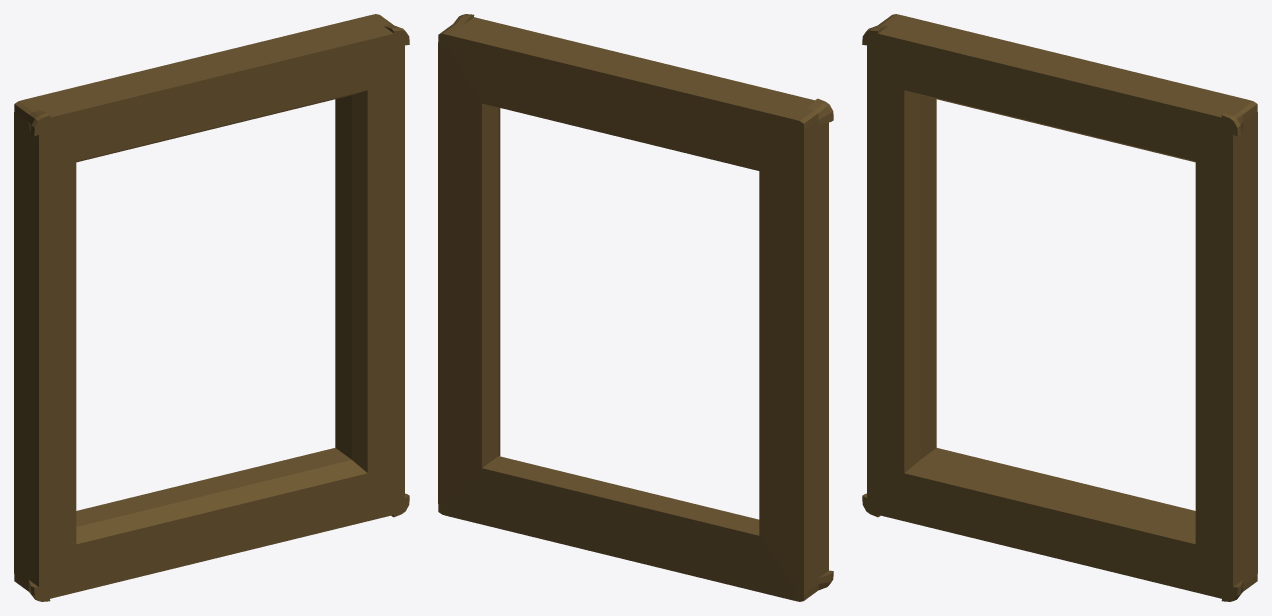
The model's file is frame03_centered.glb.
3 renders of one model, left to right at view 1: azimuth 30°, elevation 25°; view 2: azimuth 150°, elevation 25°; view 3: azimuth 330°, elevation 25°, orthographic.
Parts seen in each view (by area): view 1: Plane.001_Material.003_0; view 2: Plane.001_Material.003_0; view 3: Plane.001_Material.003_0.
Boxes of the visible parts, <box> form: Plane.001_Material.003_0: <box>14,14,409,601</box>; Plane.001_Material.003_0: <box>438,14,833,601</box>; Plane.001_Material.003_0: <box>862,14,1257,601</box>.
Size of the model in its own units: 0.1486 by 0.1838 by 0.0173.
